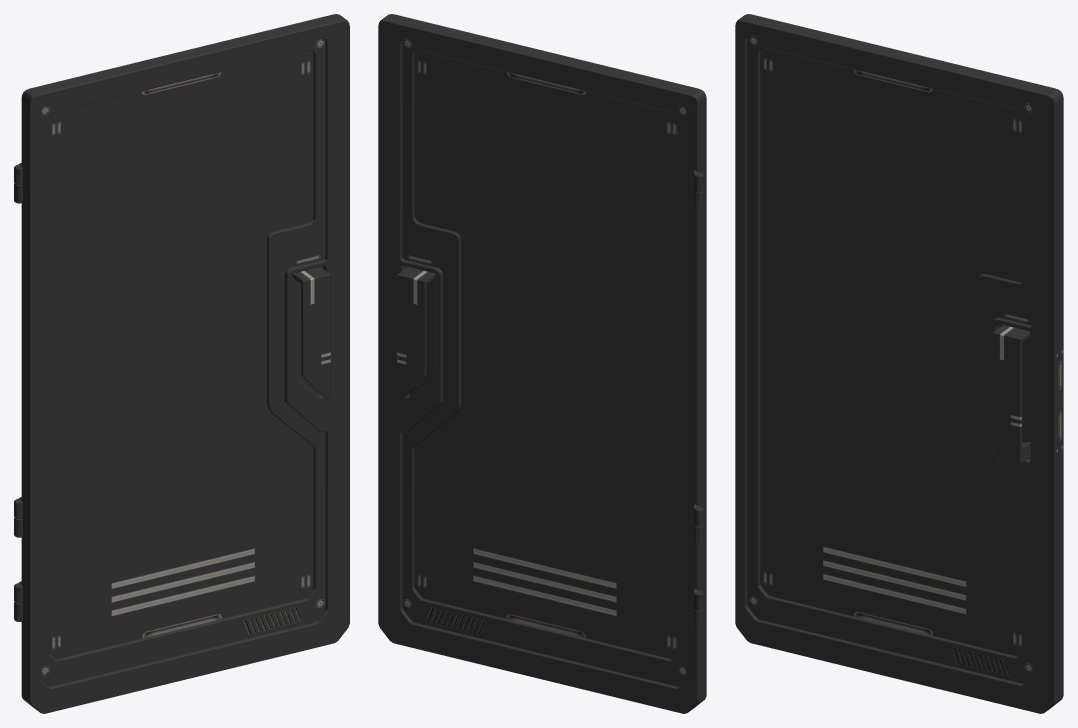
Rendered from SM_Door_Solid_Double_01.FBX.
The picture shows the model from 3 angles, left to right: view 1: azimuth 30°, elevation 25°; view 2: azimuth 150°, elevation 25°; view 3: azimuth 330°, elevation 25°; orthographic projection.
Visible parts, largest first — view 1: SM_Door_Solid_Double_01_LOD0; view 2: SM_Door_Solid_Double_01_LOD0; view 3: SM_Door_Solid_Double_01_LOD0.
Boxes of the visible parts, x1,y1,x2,y2 form: SM_Door_Solid_Double_01_LOD0: [14, 14, 349, 713]; SM_Door_Solid_Double_01_LOD0: [378, 14, 706, 713]; SM_Door_Solid_Double_01_LOD0: [735, 14, 1063, 713].
Size of what is drawn, in the model's own units: 112 by 14.63 by 203.
